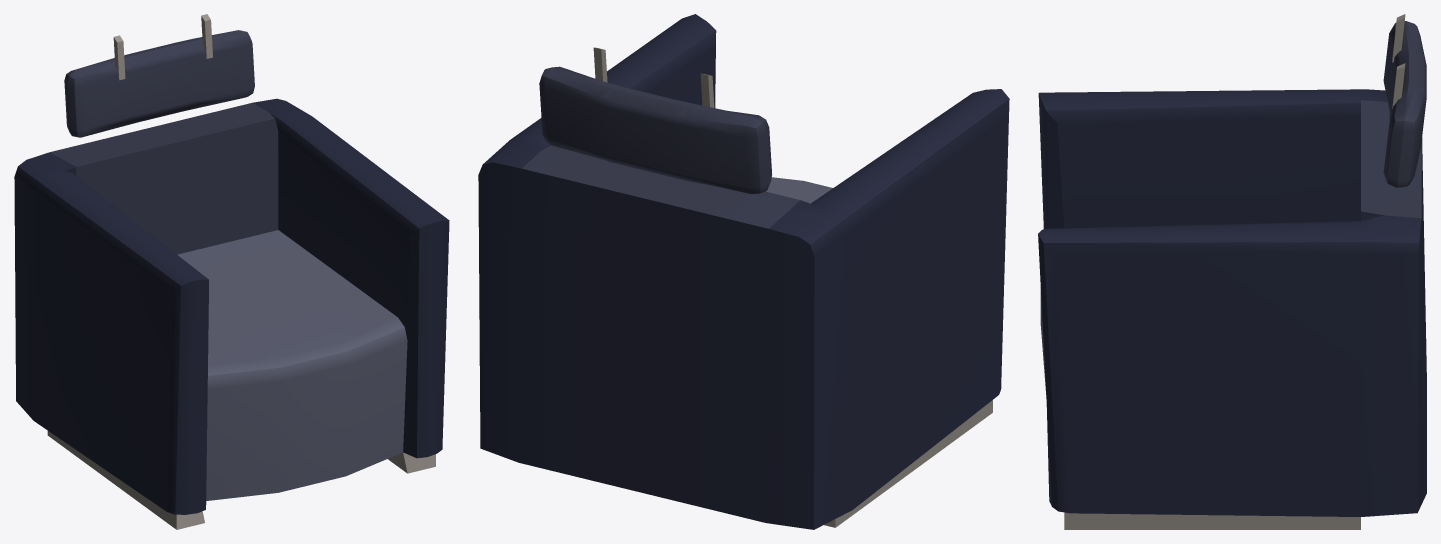
Rendered from waiting_room_chair 1.fbx.
3 renders of one model, left to right at view 1: azimuth 30°, elevation 25°; view 2: azimuth 150°, elevation 25°; view 3: azimuth 270°, elevation 25°, orthographic. The views are drawn at different scales.
Parts seen in each view (by area): view 1: chair, head_rest; view 2: chair, head_rest; view 3: chair, head_rest.
Part boxes in pixels (x1=…): chair: x1=14, y1=98, x2=449, y2=529; head_rest: x1=64, y1=30, x2=254, y2=137; chair: x1=478, y1=14, x2=1009, y2=529; head_rest: x1=539, y1=66, x2=772, y2=194; chair: x1=1038, y1=89, x2=1426, y2=529; head_rest: x1=1383, y1=21, x2=1426, y2=187.
Bounding box in the file's own units: 1.11 × 1.34 × 1.13.
